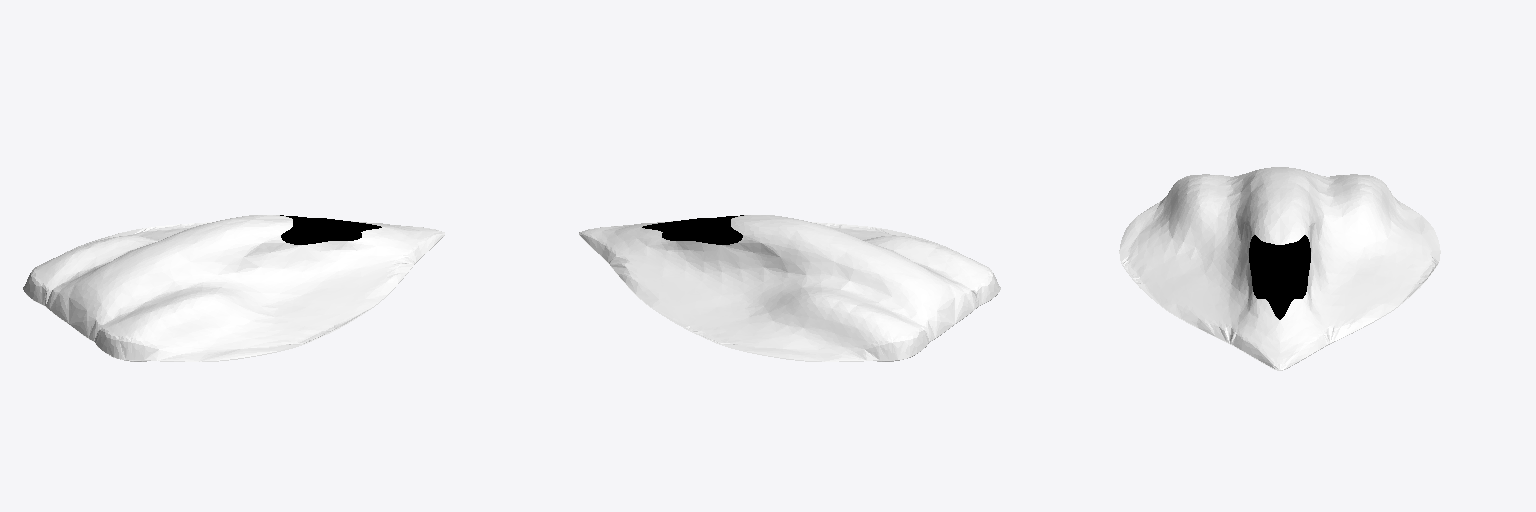
The model's file is alienglyder3.obj.
The picture shows the model from 3 angles: view 1: azimuth 30°, elevation 25°; view 2: azimuth 150°, elevation 25°; view 3: azimuth 270°, elevation 25°; orthographic projection.
Parts seen in each view (by area): view 1: alien_glyder; view 2: alien_glyder; view 3: alien_glyder.
Boxes of the visible parts, x1,y1,x2,y2 form: alien_glyder: [23, 215, 444, 361]; alien_glyder: [579, 215, 1000, 361]; alien_glyder: [1119, 167, 1440, 370].
Size of the model in its own units: 12.61 by 2.49 by 9.29.